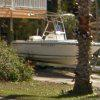Boat: (11, 19, 100, 83)
